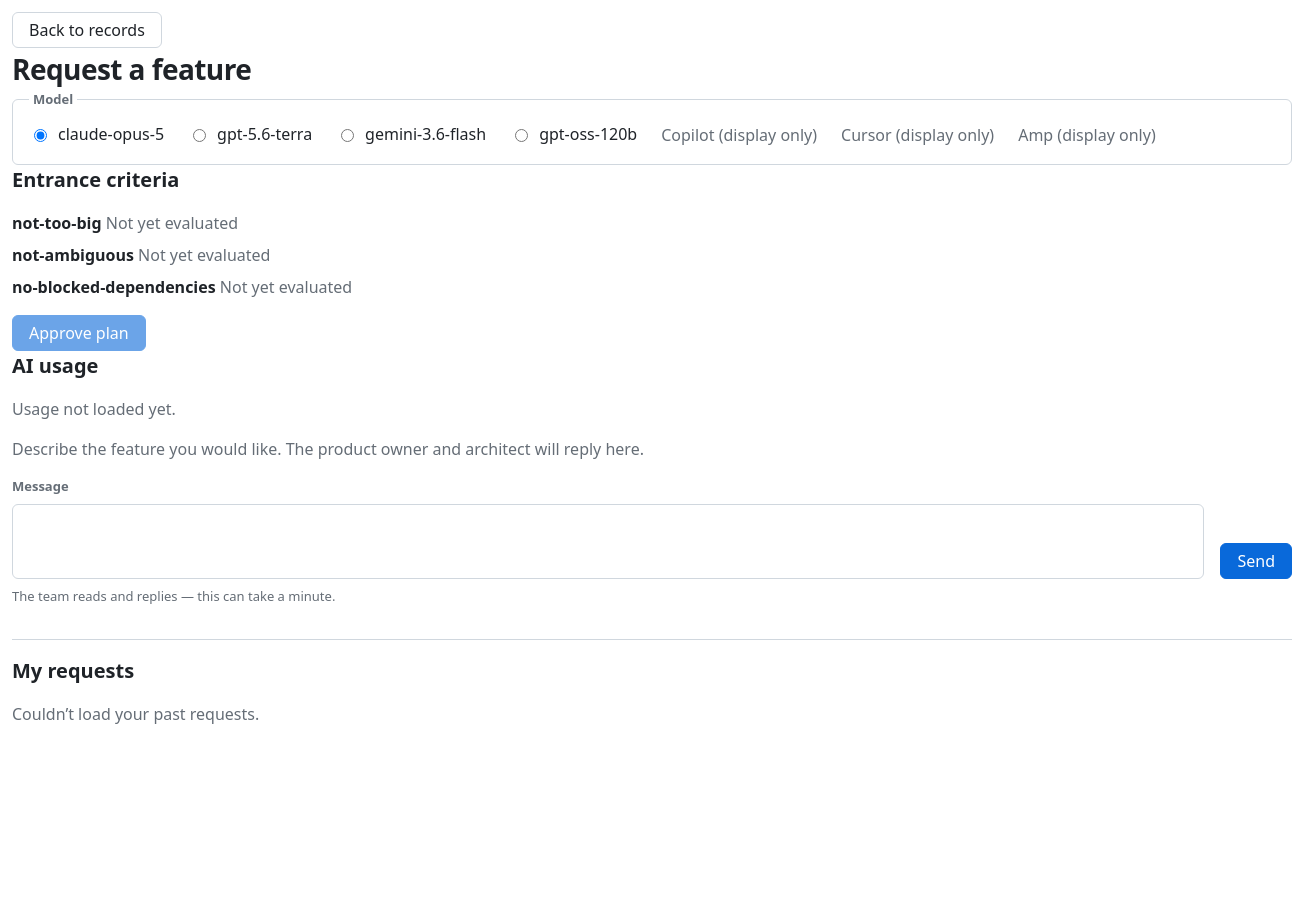
Test case: DAN-79 · markdown in agent replies › leaves user messages as plain text — markdown syntax stays literal
This screenshot has width=1304, height=912.
Type "Make it **bold** everywhere" into the text box labelled "Message". click: [608, 542]
box: [12,504,1204,579]
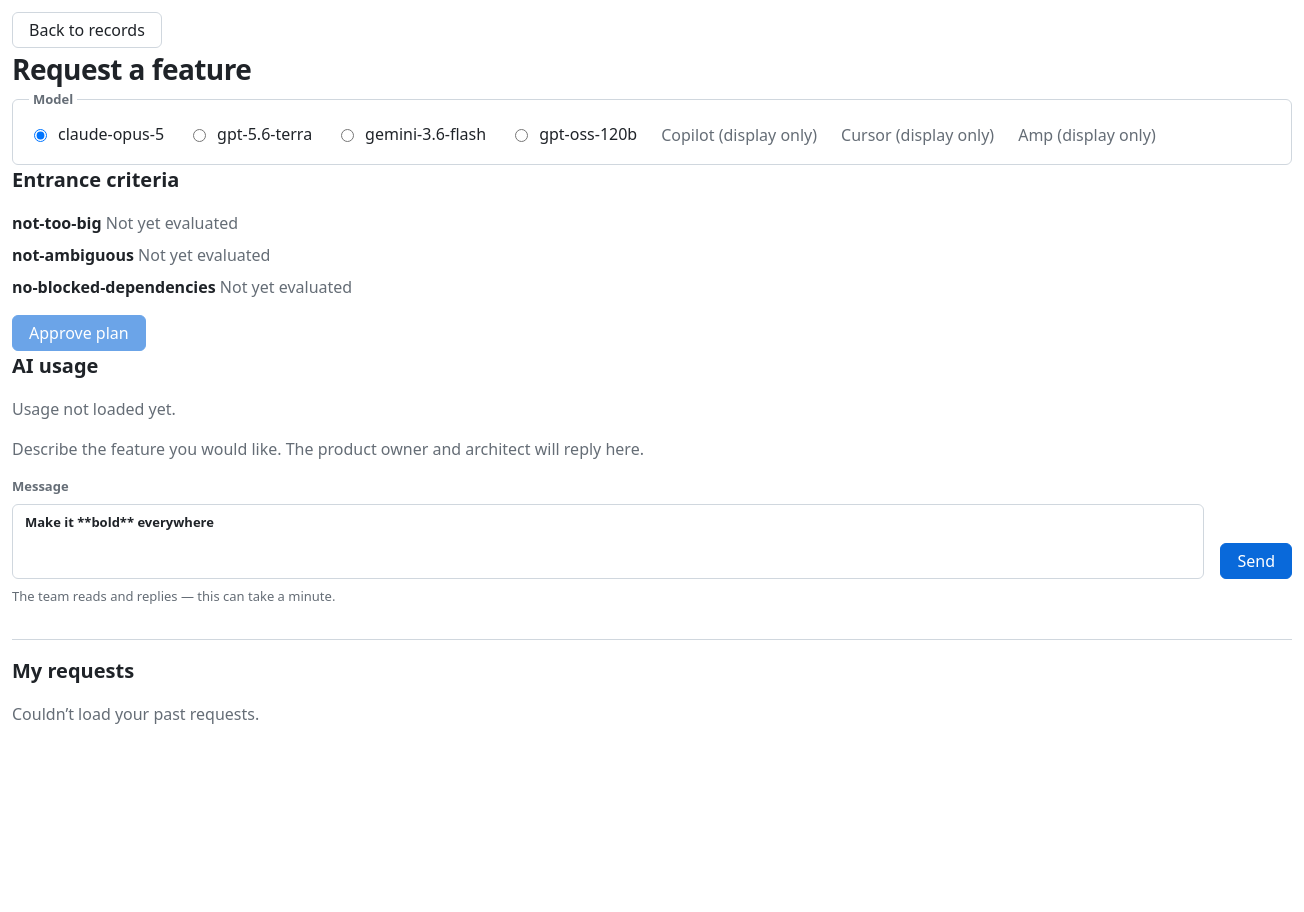
Click the button "Send". click: [1256, 561]
box: [1220,543,1292,579]
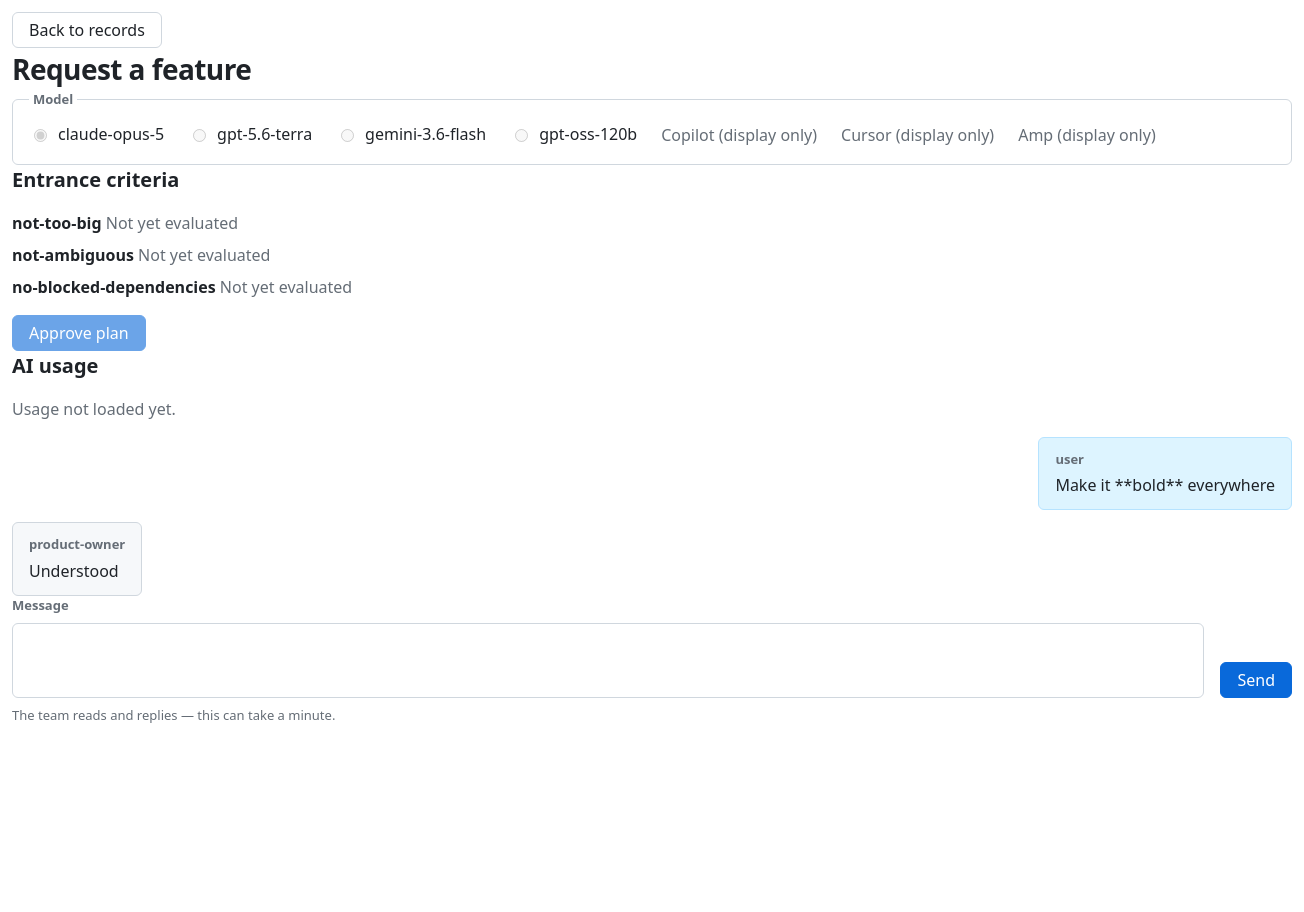
Check: the text "user" is shown, box [1055,450,1084,468]
Check: the text "Make it **bold** everywhere" is shown, box [1055,473,1275,497]
